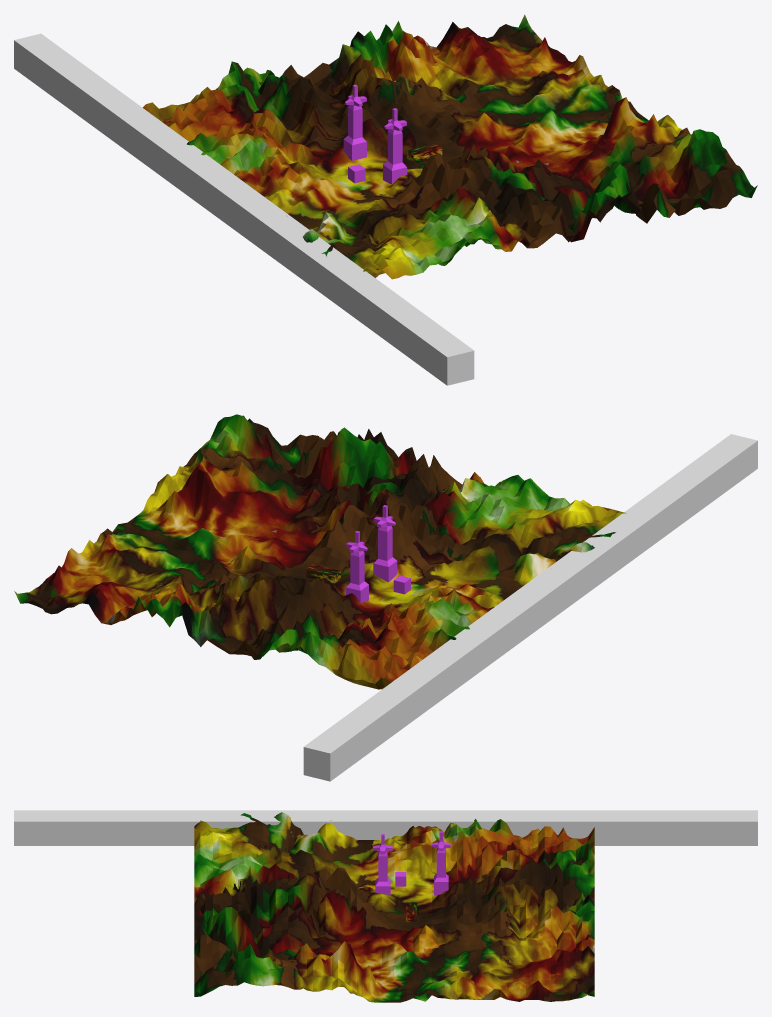
Rendered from ground.glb.
3 renders of one model, top to bottom at view 1: azimuth 30°, elevation 25°; view 2: azimuth 150°, elevation 25°; view 3: azimuth 270°, elevation 25°, orthographic. The views are drawn at different scales.
Visible parts, largest first — view 1: Plane, wall, Cube.000, Cube.001; view 2: Plane, wall, Cube.000, Cube.001; view 3: Plane, wall, Cube.000, Cube.001.
Boxes of the visible parts, x1,y1,x2,y2 form: Plane: (142, 14, 757, 279); wall: (14, 33, 474, 385); Cube.000: (348, 108, 407, 184); Cube.001: (343, 84, 366, 160); Plane: (14, 414, 626, 689); wall: (303, 434, 757, 781); Cube.000: (373, 505, 410, 594); Cube.001: (346, 531, 368, 602); Plane: (194, 812, 594, 1002); wall: (14, 810, 757, 845); Cube.000: (373, 834, 406, 895); Cube.001: (431, 831, 450, 895).
Size of the model in its own units: 74.25 by 13.62 by 134.
Materials: 2 (1 with a texture image).
